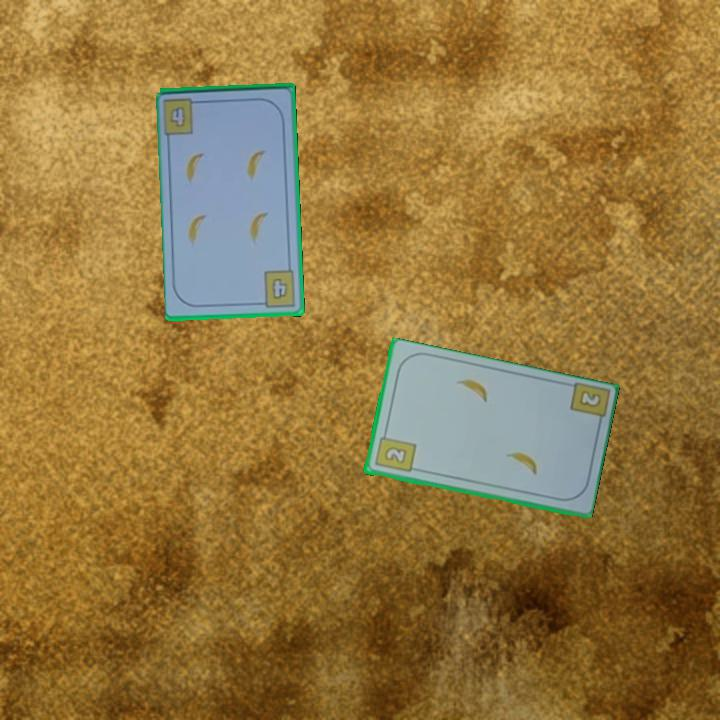2b: (371, 428, 418, 476), (575, 387, 602, 409)
4b: (255, 267, 299, 310), (166, 103, 189, 131)
